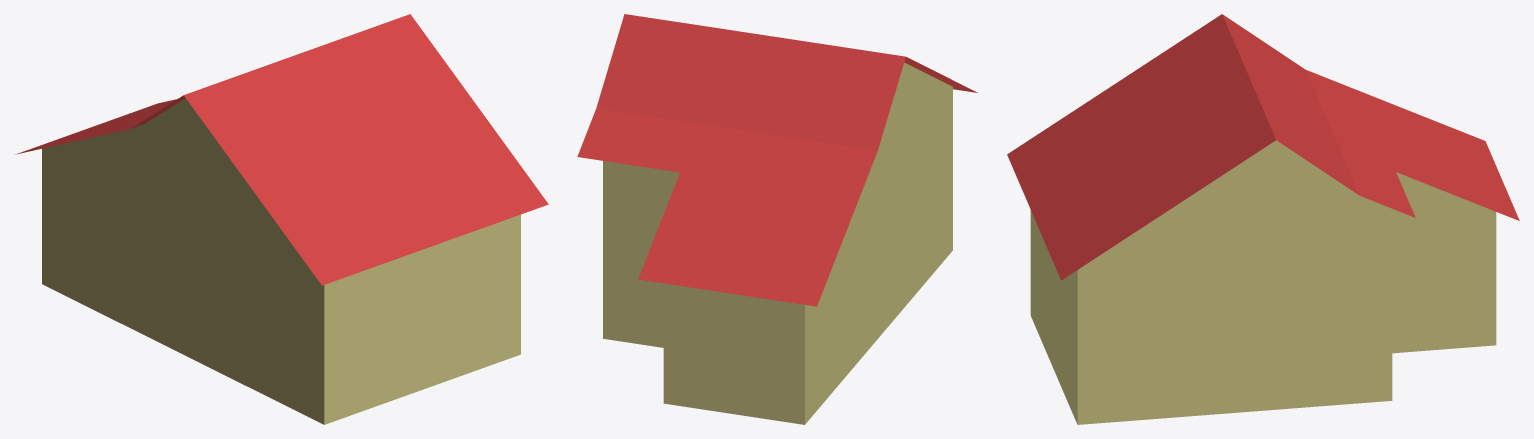
3 renders of one model, left to right at view 1: azimuth 30°, elevation 25°; view 2: azimuth 150°, elevation 25°; view 3: azimuth 270°, elevation 25°, orthographic. The views are drawn at different scales.
Size of the model in its own units: 14.24 by 18.96 by 11.35.
